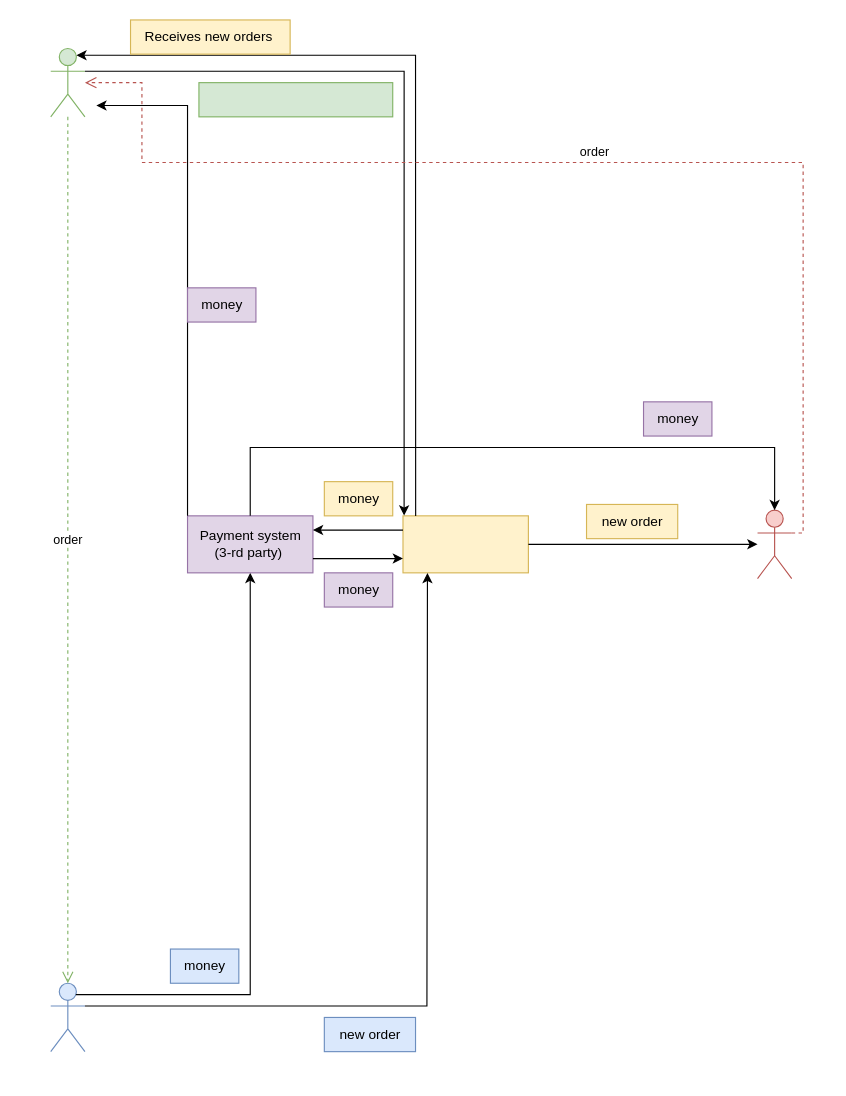
This 846x1096 diagram has some shape labels left out. Here are the shapes that lost their labels. From the top down, the centre of each, then its label:
[67,82]: Delivery person
[295,99]: Gives status of current order
[465,544]: Main server / system
[774,544]: Restaurant / cafe
[67,1017]: User / customer
